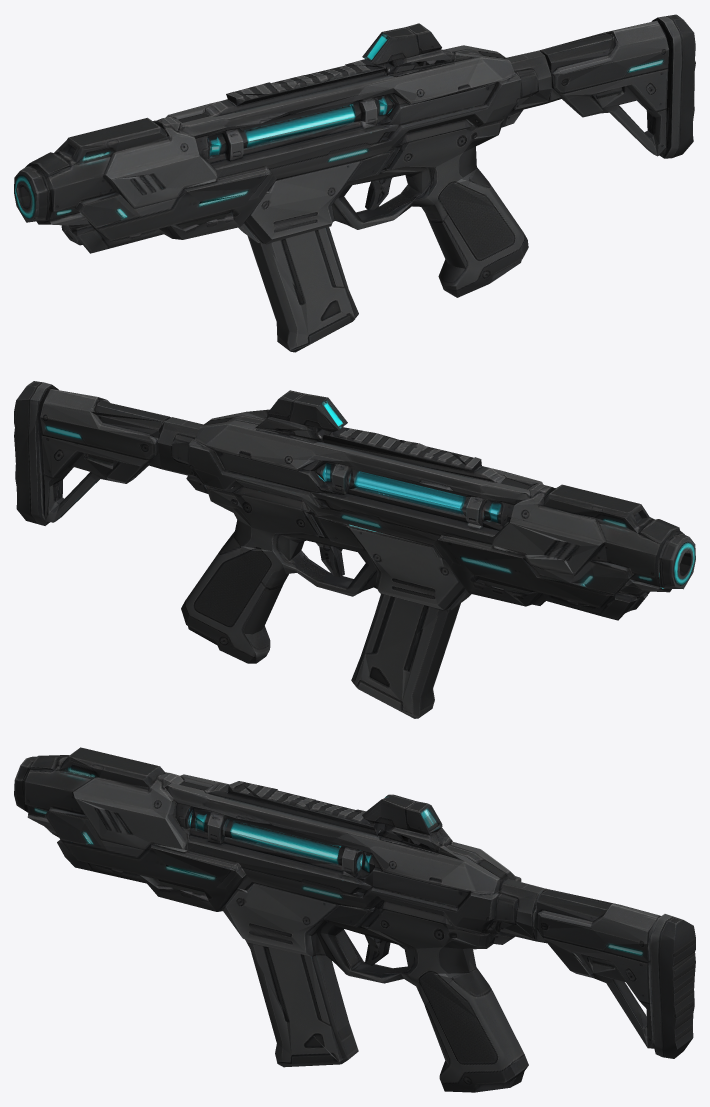
Rendered from Rifle.glb.
The picture shows the model from 3 angles, top to bottom: view 1: azimuth 30°, elevation 25°; view 2: azimuth 150°, elevation 25°; view 3: azimuth 330°, elevation 25°; orthographic projection.
Visible parts, largest first — view 1: output_unwrapped; view 2: output_unwrapped; view 3: output_unwrapped.
Boxes of the visible parts, box(x1,y1,x2,y2) form: output_unwrapped: box(14, 14, 695, 352); output_unwrapped: box(14, 381, 695, 718); output_unwrapped: box(14, 747, 695, 1092).
Bounding box in the file's own units: 1.9 × 0.798 × 0.1823.
Materials: 1 (1 with a texture image).
